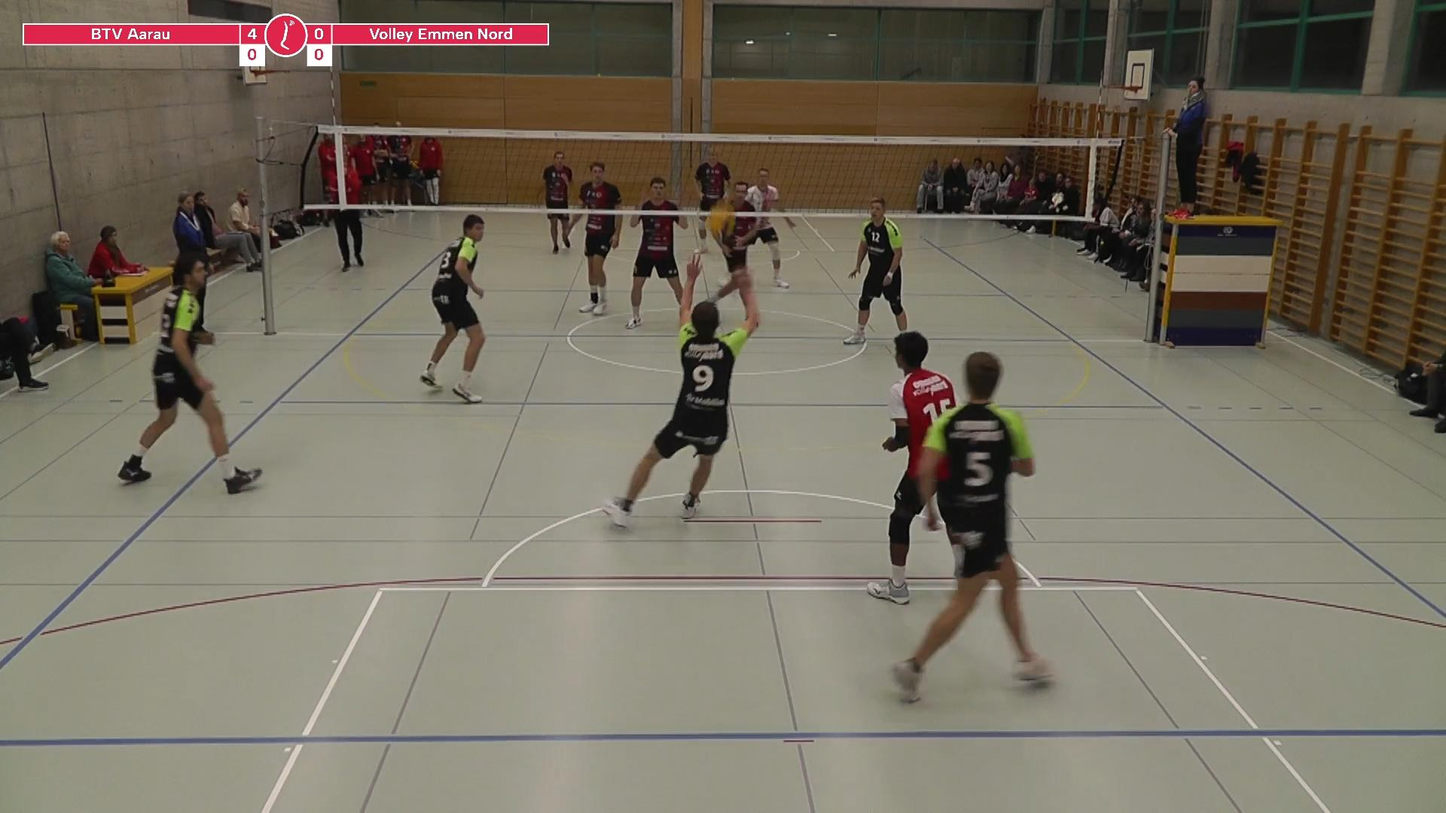ricezione: (588, 280, 775, 530)
